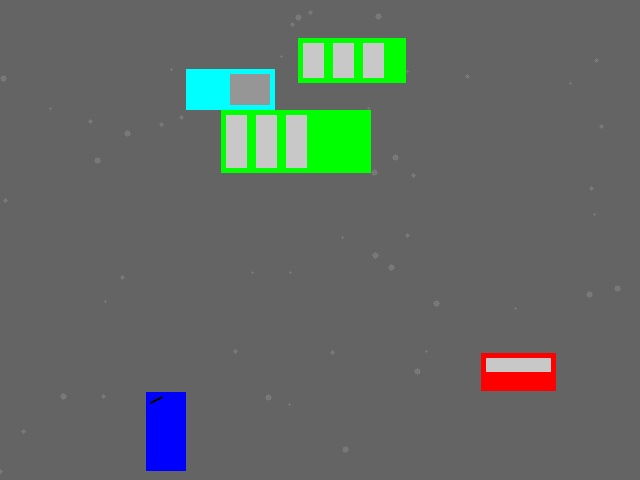bus: (221, 110, 370, 172), (298, 38, 405, 82)
car: (481, 353, 555, 390)
motorcycle: (146, 392, 185, 470)
truck: (186, 69, 274, 109)
